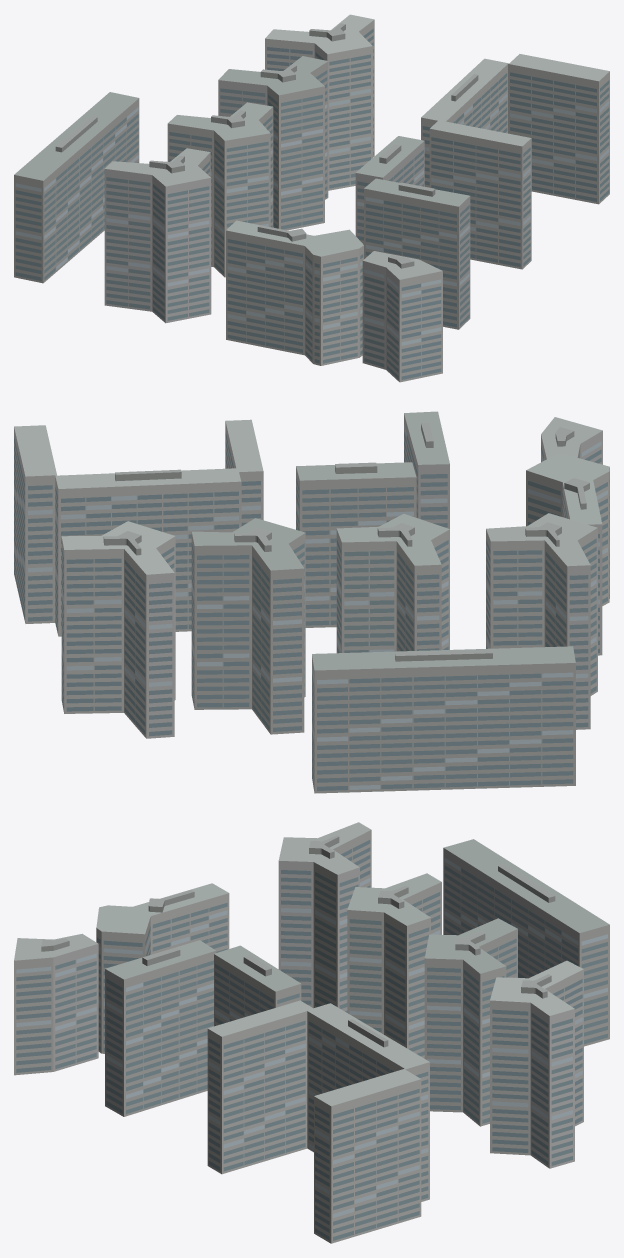
Rendered from apt-a13707016.glb.
3 renders of one model, top to bottom at view 1: azimuth 30°, elevation 25°; view 2: azimuth 150°, elevation 25°; view 3: azimuth 270°, elevation 25°, orthographic. The views are drawn at different scales.
Visible parts, largest first — view 1: apt-a13707016; view 2: apt-a13707016; view 3: apt-a13707016.
Boxes of the visible parts, x1=… form: apt-a13707016: x1=14, y1=14, x2=609, y2=382; apt-a13707016: x1=14, y1=411, x2=609, y2=793; apt-a13707016: x1=14, y1=822, x2=609, y2=1243.
Bounding box in the file's own units: 248 × 63.4 × 216.
